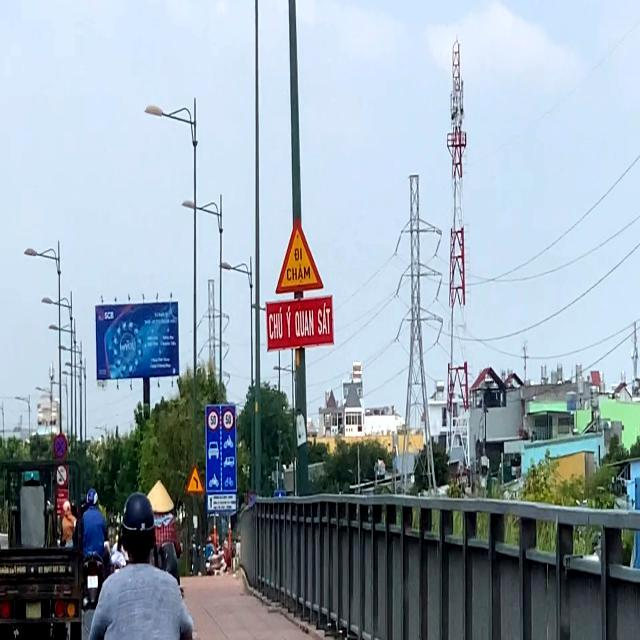Cam dung xe va do xe: (54, 433, 68, 459)
Di cham: (274, 218, 325, 295)
Toc do toi da cho phep: (207, 408, 220, 432), (222, 408, 234, 431)
cho ngoat nguy hiem vong ben trai: (186, 465, 204, 493)
